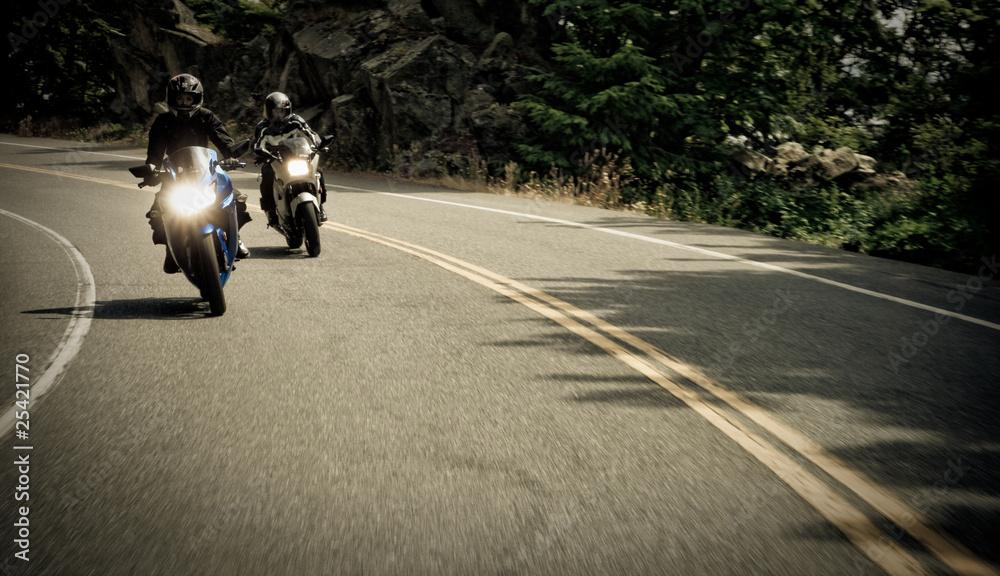helmet: (165, 73, 204, 123), (265, 91, 292, 129)
